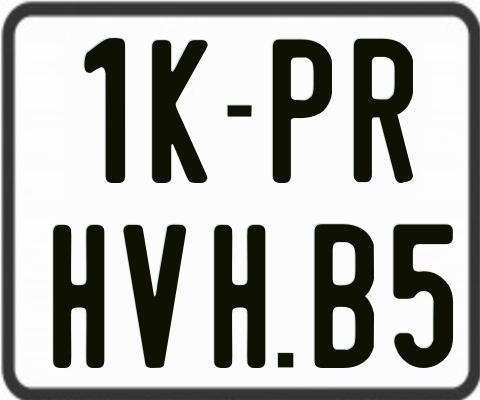1: (84, 38, 125, 184)
5: (393, 223, 457, 373)
B: (314, 221, 377, 368)
H: (213, 225, 270, 374), (50, 222, 104, 371)
K: (150, 40, 210, 187)
P: (270, 38, 329, 183)
R: (353, 39, 415, 189)
V: (123, 224, 186, 372)
